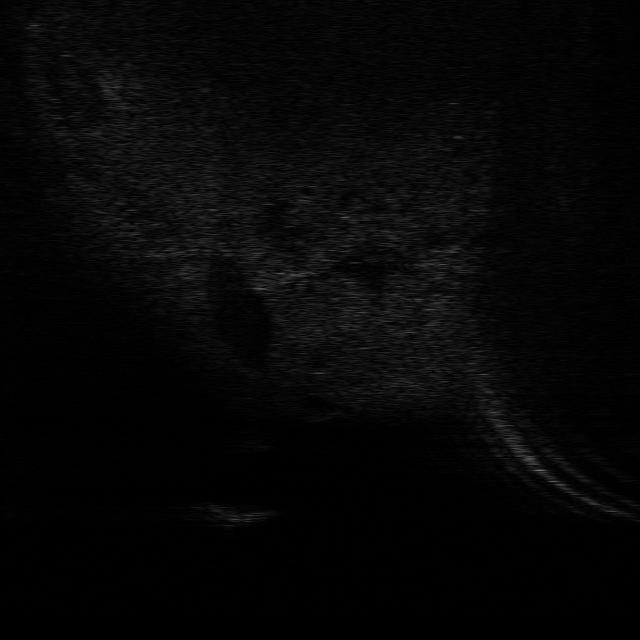cube: (202, 499, 272, 531)
